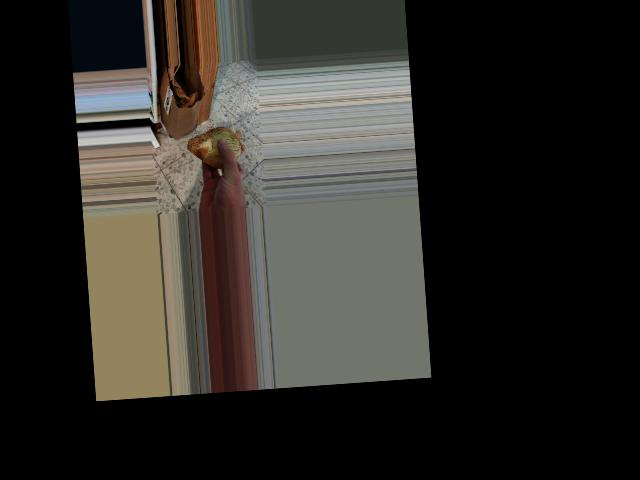onion: (183, 118, 244, 175)
